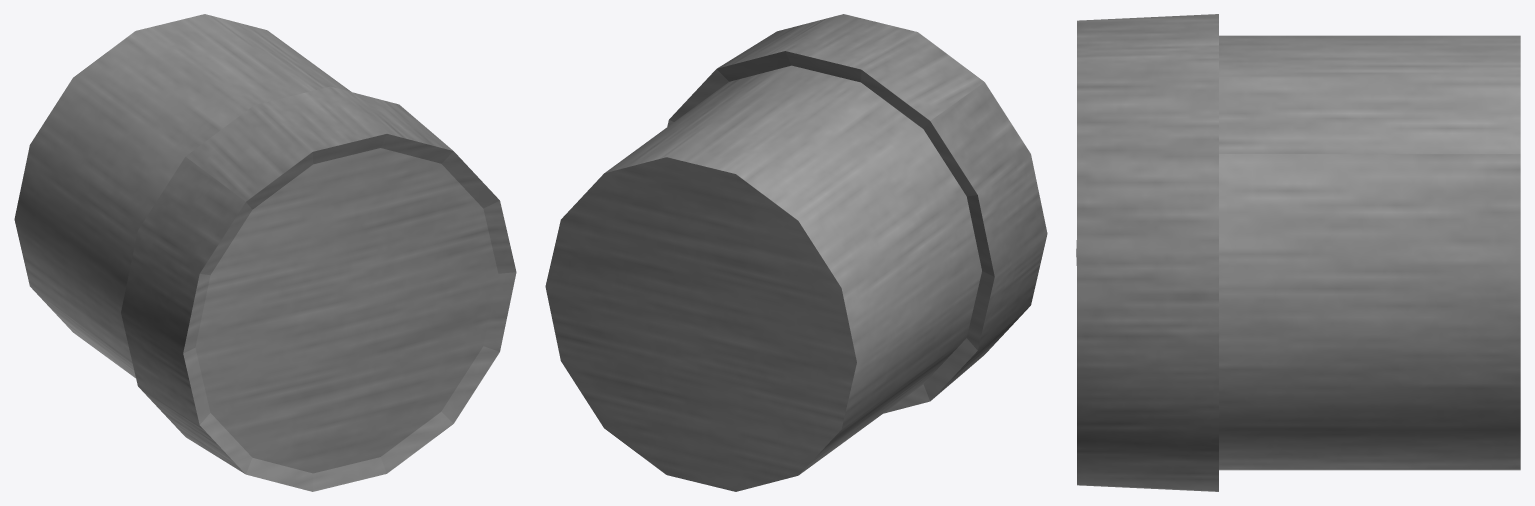
Rendered from pipe-cap-1x1.fbx.
3 views of the same model, side by side, from view 1: azimuth 30°, elevation 25°; view 2: azimuth 150°, elevation 25°; view 3: azimuth 270°, elevation 25° (orthographic). The views are drawn at different scales.
Parts seen in each view (by area): view 1: pipe_1x3; view 2: pipe_1x3; view 3: pipe_1x3.
Boxes of the visible parts, bbox=[...] form: pipe_1x3: bbox=[14, 14, 516, 491]; pipe_1x3: bbox=[545, 14, 1047, 491]; pipe_1x3: bbox=[1076, 14, 1520, 491].
Bounding box in the file's own units: 106 × 104 × 96.72.
